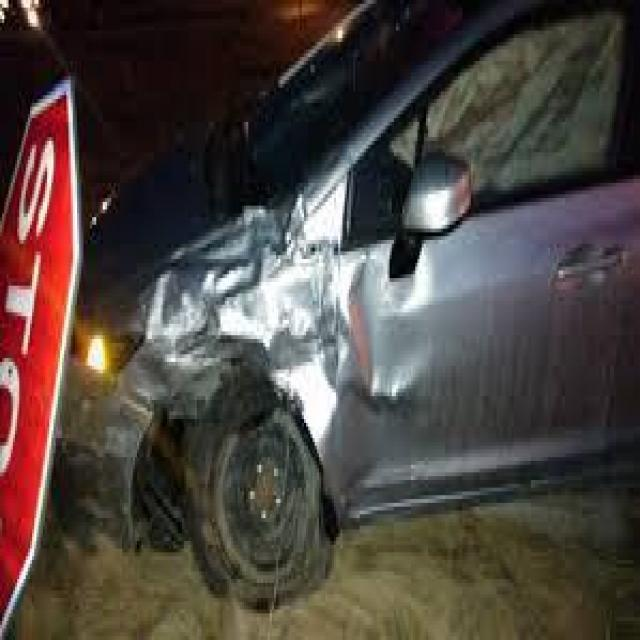damaged: (74, 190, 420, 522)
